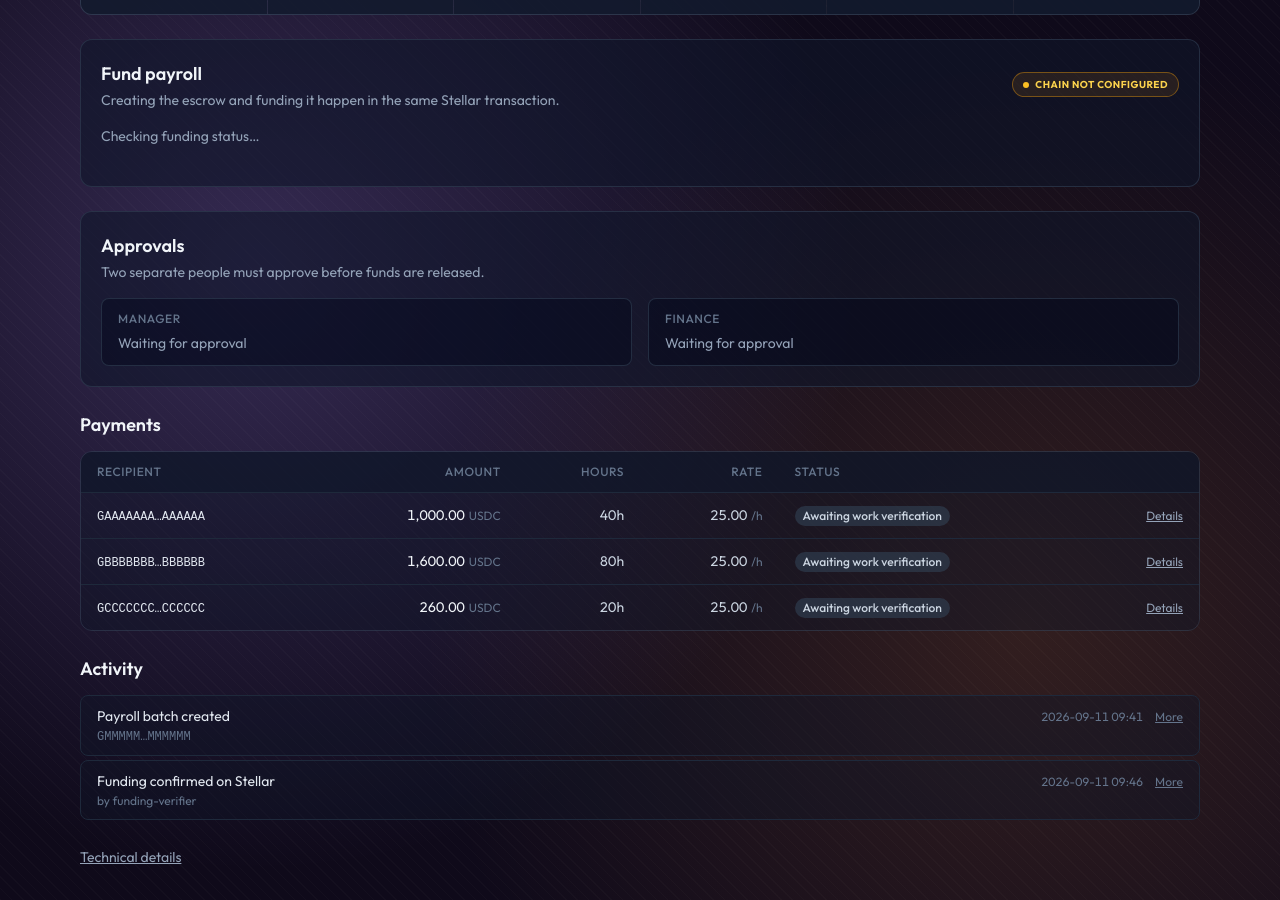
Test: activity timeline › exposes event metadata on demand
(page scrolled)
Click the button "More" next to "2026-09-11 09:46": (1169, 782) [1155,774,1183,790]
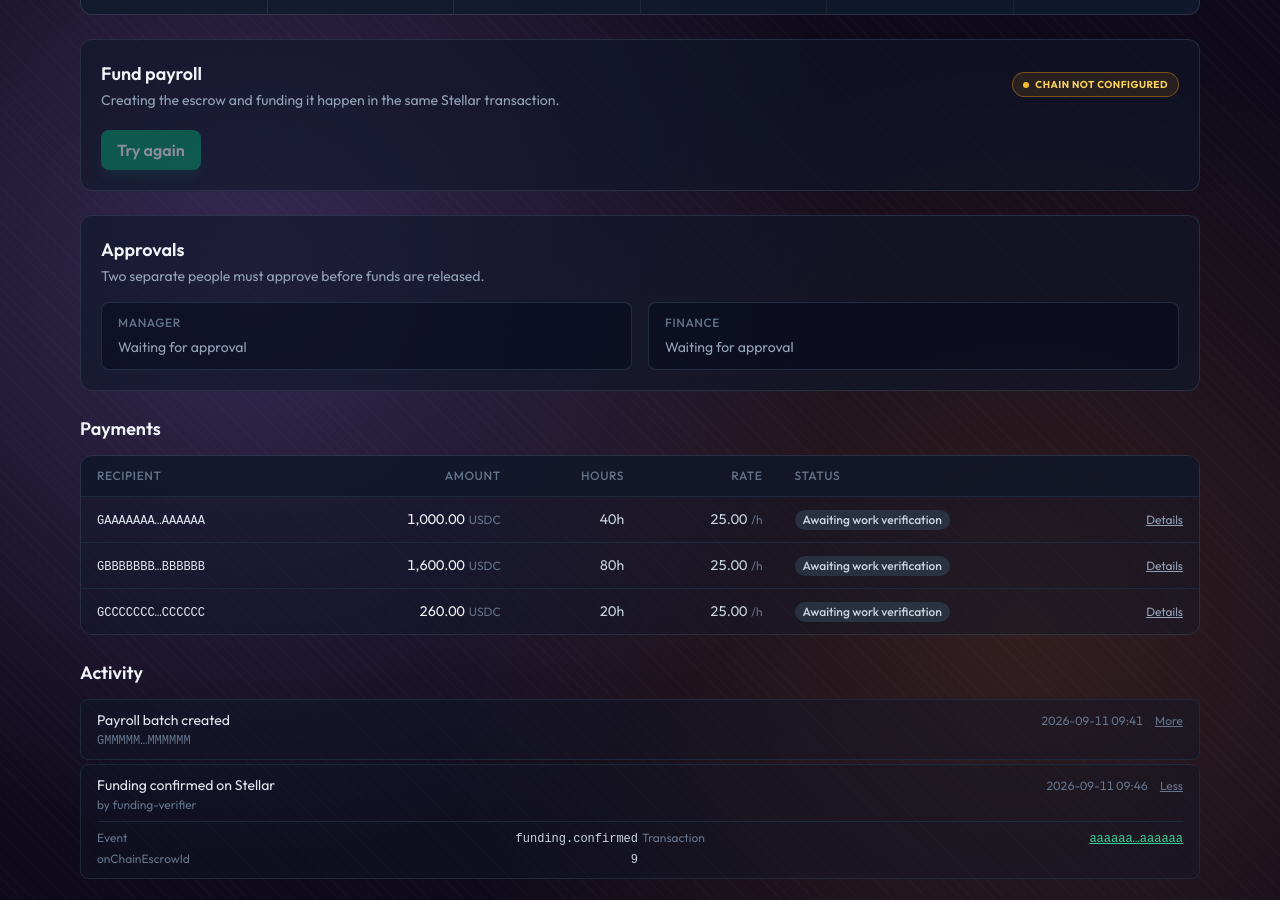
Result: the text "funding.confirmed" is shown at [516,832,638,846]
Result: the text "9" is shown at [631,852,638,866]
